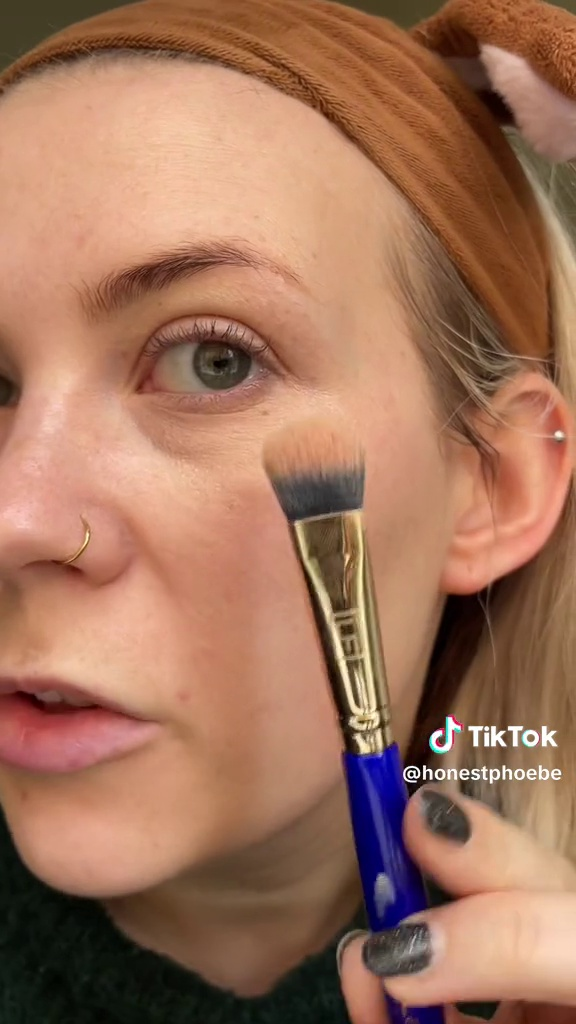train' :'yolo_data/train/images',: (244, 417, 444, 1021)
